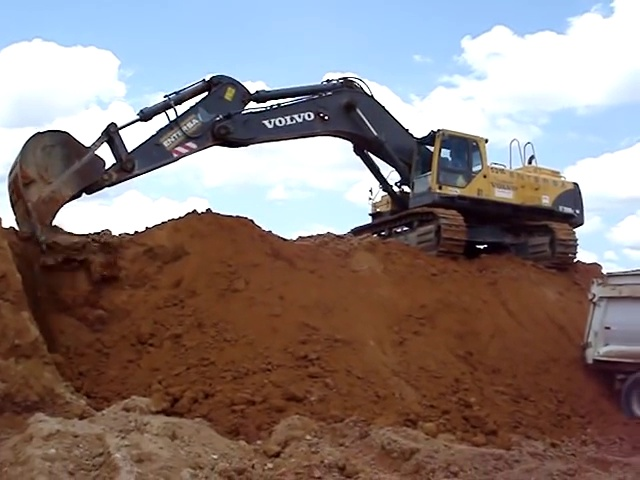excavator: (7, 74, 585, 265)
